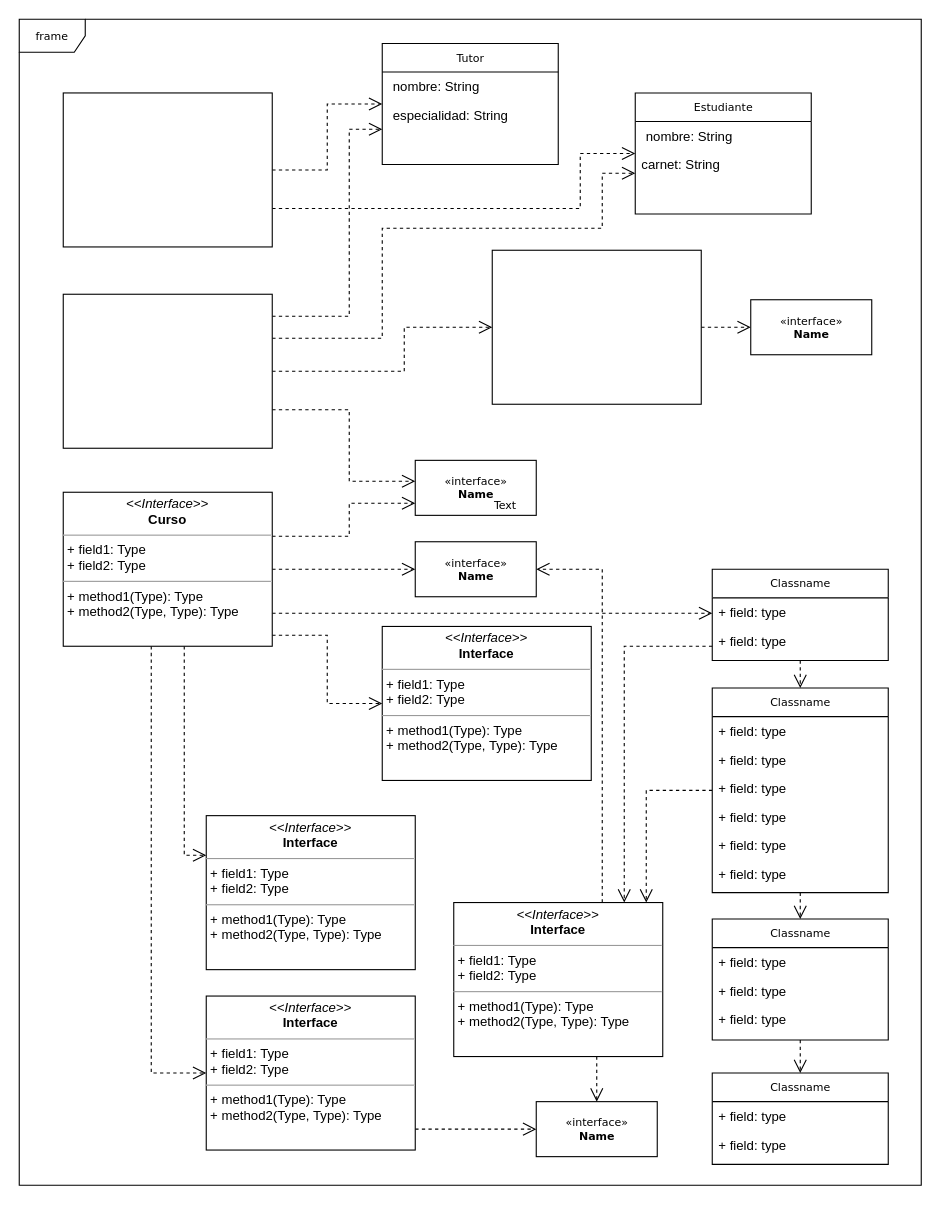
Some shapes in this 941 by 1205 pixel diagram are drawn without their labels. Here are the shapes that lost their labels. From the top down, the centre of each, then its label:
At pixel 167 169: "<<Interface>> Interface nombre: String especialidad: String".
At pixel 596 326: "Disponibilidad fechaHora: String estado: EstadoDisponibilidad".
At pixel 167 370: "<<Enum>> Reserva fechaHora: String estado: EstadoReserva".
